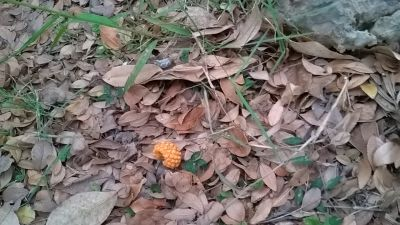eggs: (153, 140, 183, 170)
